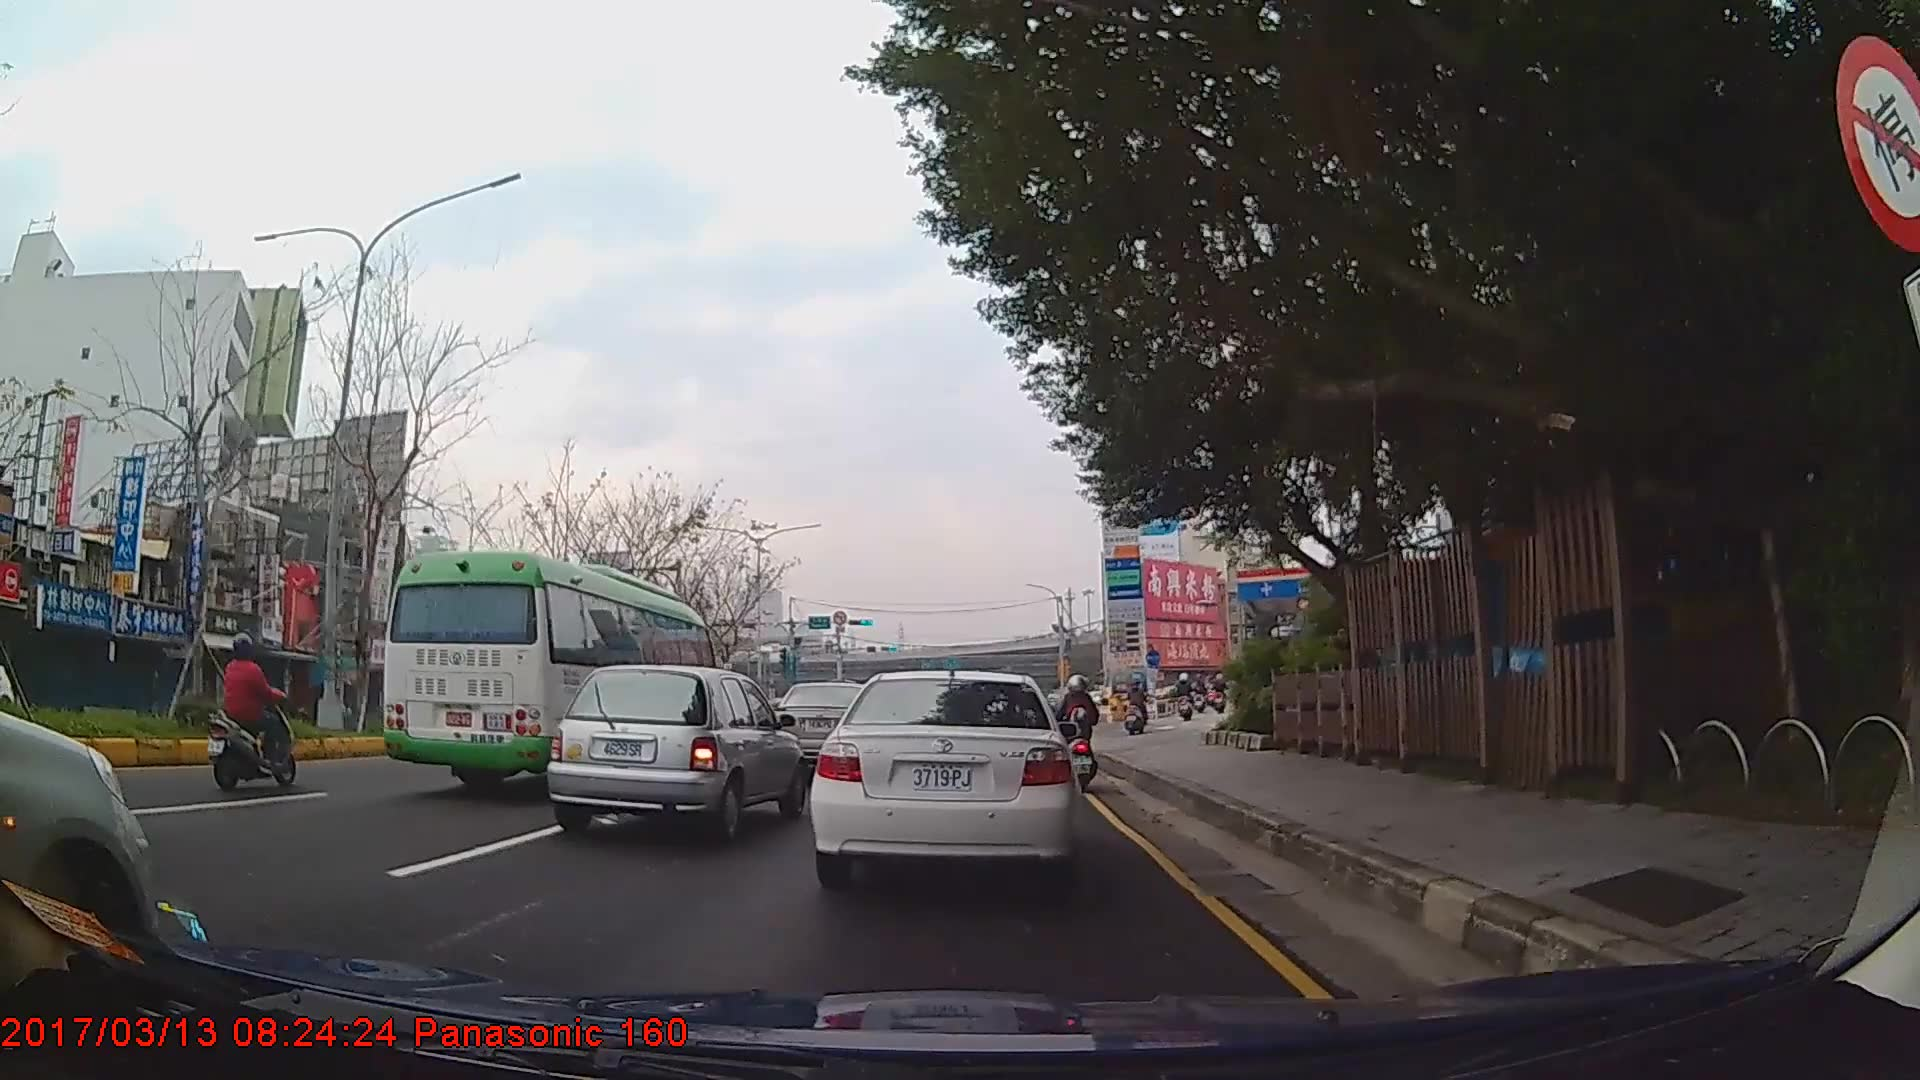rider: (207, 630, 301, 794), (1060, 673, 1100, 788), (1127, 677, 1150, 734), (1175, 671, 1195, 721)
vehicle: (379, 547, 720, 796), (807, 667, 1083, 890), (546, 661, 807, 845), (771, 681, 888, 777)
